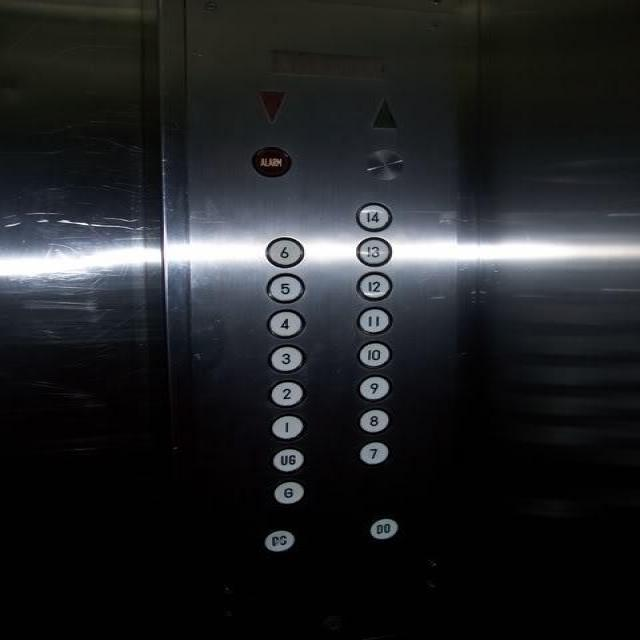1: (265, 410, 307, 441)
10: (352, 336, 393, 369)
11: (352, 303, 393, 336)
12: (352, 268, 393, 301)
13: (350, 233, 394, 267)
14: (350, 198, 394, 232)
2: (264, 376, 307, 408)
3: (263, 341, 305, 373)
4: (262, 305, 306, 339)
5: (262, 269, 306, 303)
6: (262, 234, 306, 268)
7: (354, 437, 390, 465)
8: (352, 402, 393, 435)
9: (352, 370, 393, 403)
DO: (364, 514, 399, 542)
G: (268, 476, 307, 506)
UG: (267, 443, 305, 473)
blur: (261, 525, 296, 553)
empty: (362, 146, 406, 180)
text_alarm bell: (248, 143, 292, 177)
